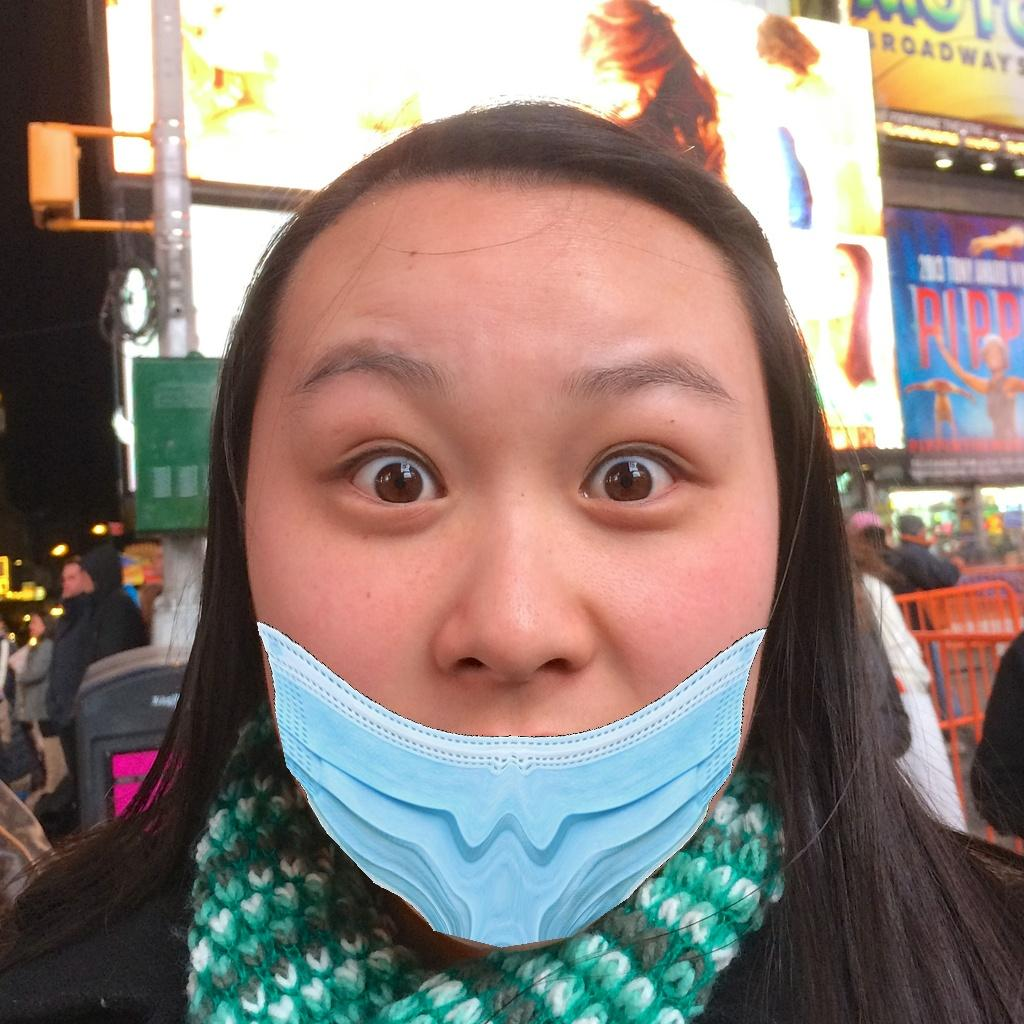Máscara Incorreta: (235, 240, 798, 891)
